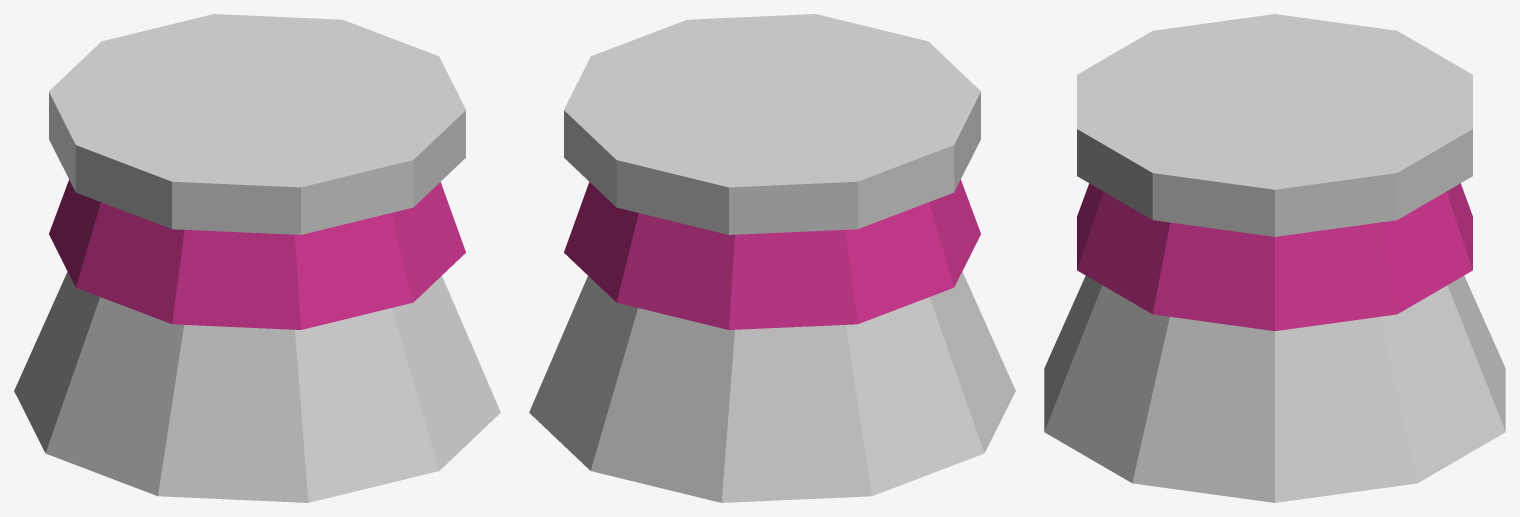
The model's file is uplight-magenta.glb.
3 views of the same model, side by side, from view 1: azimuth 30°, elevation 25°; view 2: azimuth 150°, elevation 25°; view 3: azimuth 270°, elevation 25° (orthographic).
Parts seen in each view (by area): view 1: uplight-magenta, glow; view 2: uplight-magenta, glow; view 3: uplight-magenta, glow.
Part boxes in pixels (bbox=[...]): uplight-magenta: bbox=[14, 14, 500, 502]; glow: bbox=[49, 179, 465, 329]; uplight-magenta: bbox=[529, 14, 1015, 502]; glow: bbox=[564, 179, 980, 329]; uplight-magenta: bbox=[1044, 14, 1505, 502]; glow: bbox=[1077, 183, 1472, 330].
Bounding box in the file's own units: 0.322 × 0.2185 × 0.3062.
